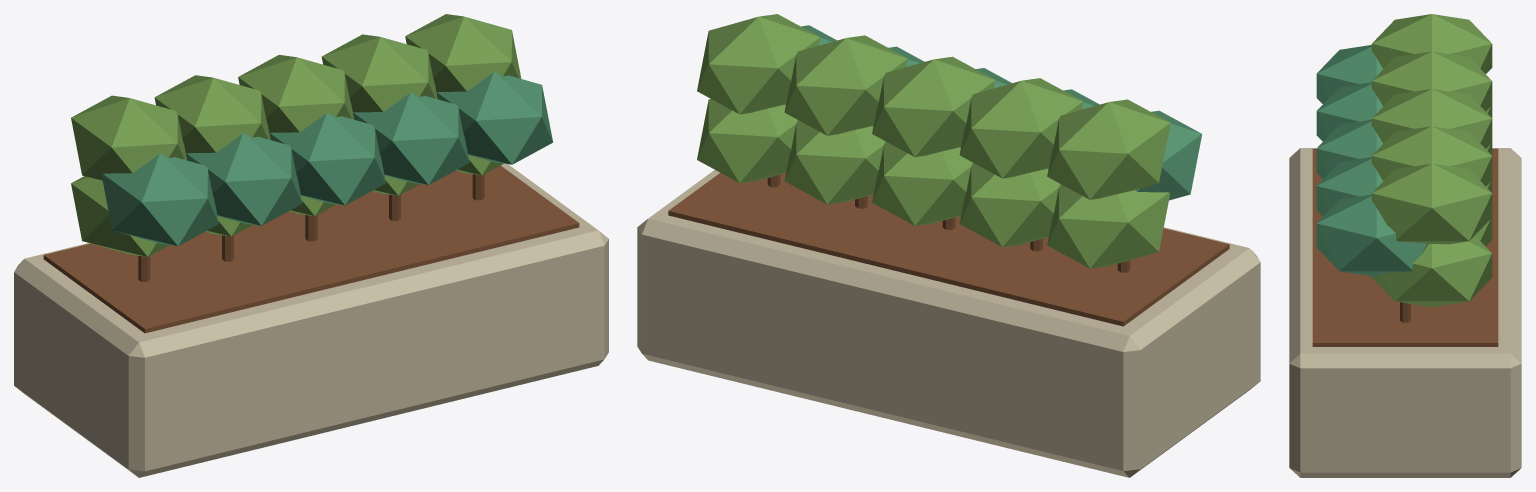
The model's file is garden_planter.glb.
3 views of the same model, side by side, from view 1: azimuth 30°, elevation 25°; view 2: azimuth 150°, elevation 25°; view 3: azimuth 270°, elevation 25° (orthographic). The views are drawn at different scales.
Visible parts, largest first — view 1: garden_planter; view 2: garden_planter; view 3: garden_planter.
Part boxes in pixels (<box>): garden_planter: <box>14,14,608,477</box>; garden_planter: <box>637,14,1260,477</box>; garden_planter: <box>1289,14,1521,477</box>.
Bounding box in the file's own units: 2.3 × 1.43 × 1.05.
